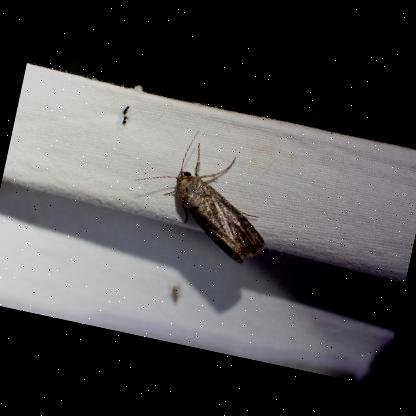Fall Armyworm Moth: (120, 116, 288, 270)
